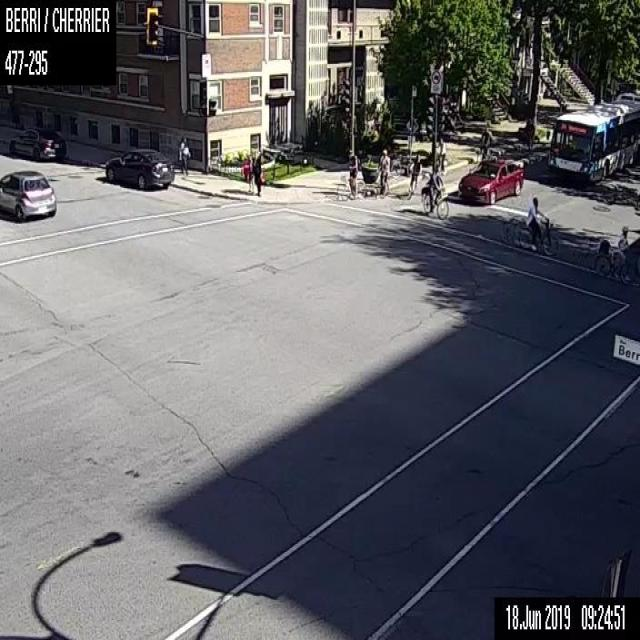bus: (549, 92, 639, 184)
cyclist: (510, 194, 555, 254), (594, 223, 632, 280), (336, 148, 365, 200), (422, 163, 448, 219), (375, 147, 392, 196), (405, 153, 421, 200), (474, 125, 492, 163), (435, 136, 447, 179)
pedestrian: (177, 135, 190, 176), (243, 152, 253, 192), (254, 152, 262, 196)
vehicle: (457, 158, 523, 203), (104, 147, 174, 189), (0, 169, 55, 221), (8, 126, 65, 160)
